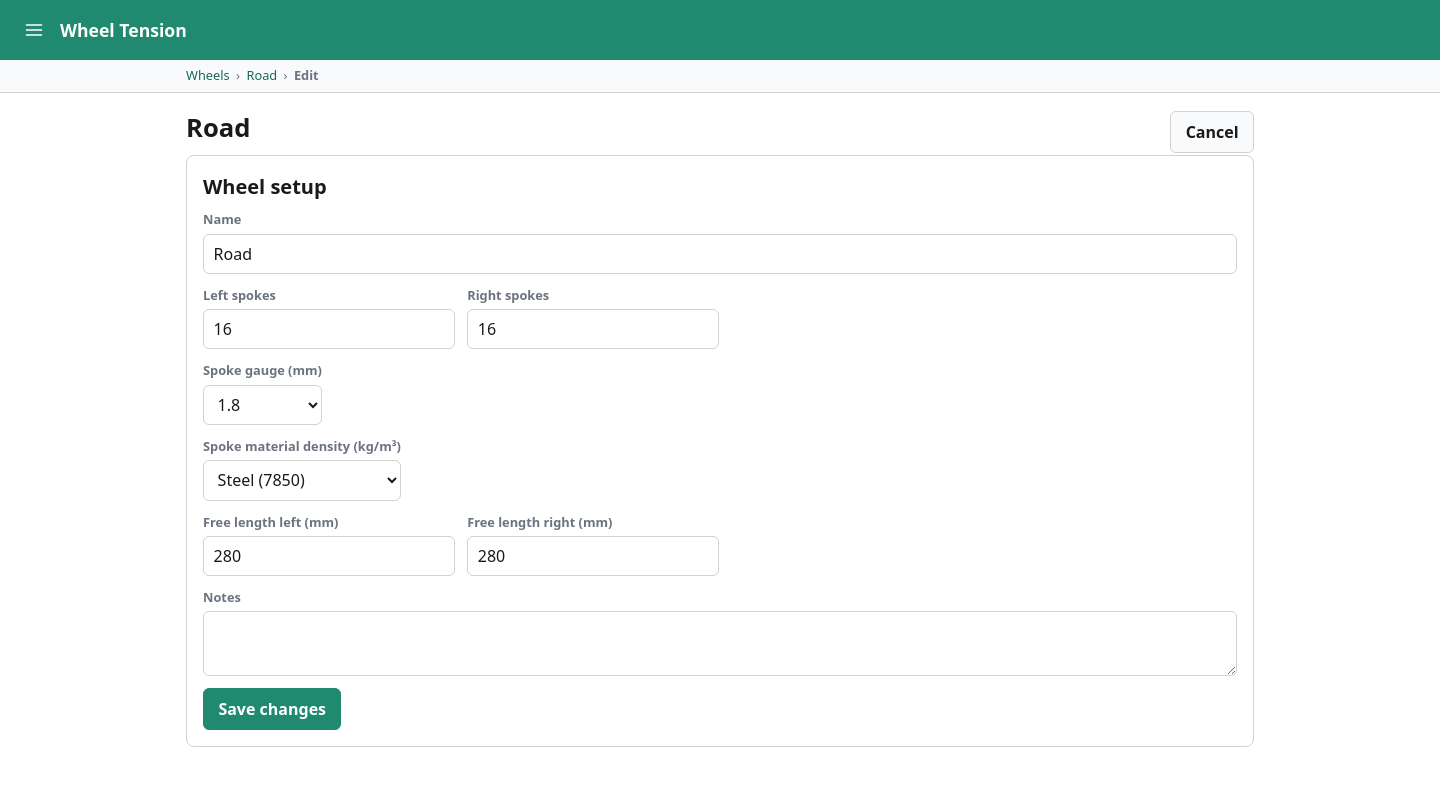
Test: WheelEditPage › keeps editing when the discard prompt is cancelled
Replace the text in the field labelled "Name" with "Gravel" at (720, 254), box [203, 234, 1237, 274]
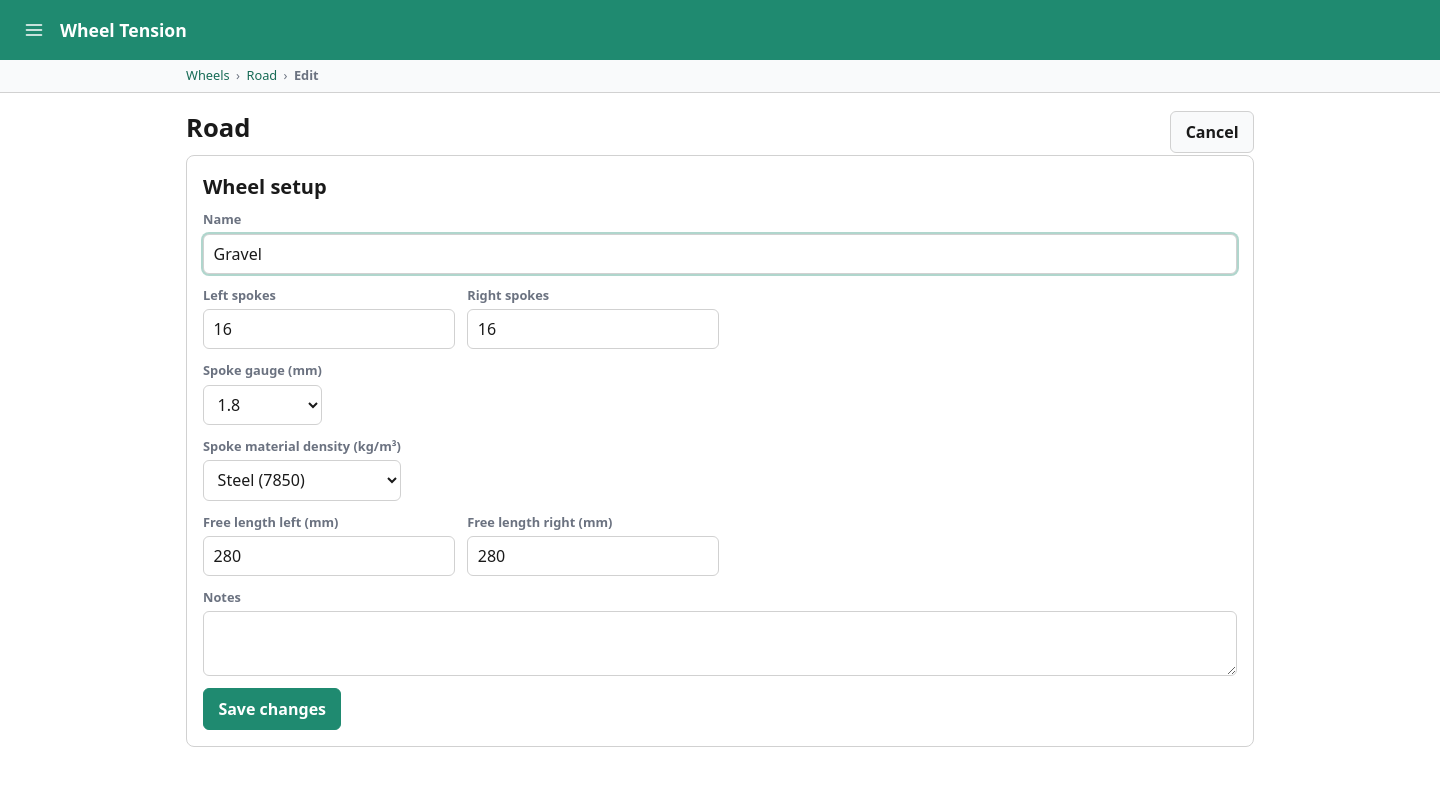
Click the link "Road" at (262, 76), box [246, 66, 277, 86]
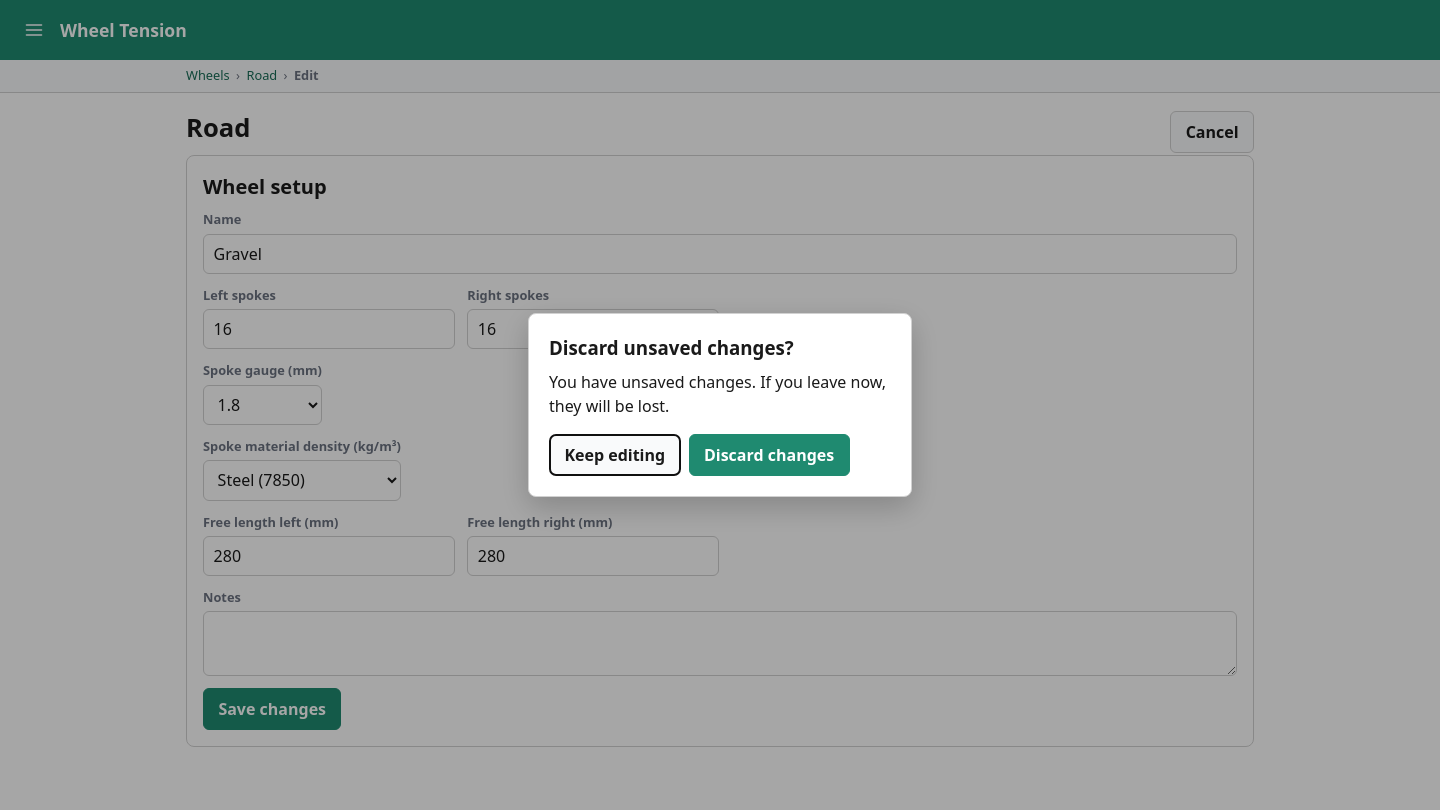
Click the button "Keep editing" at (615, 455), box [549, 434, 680, 476]
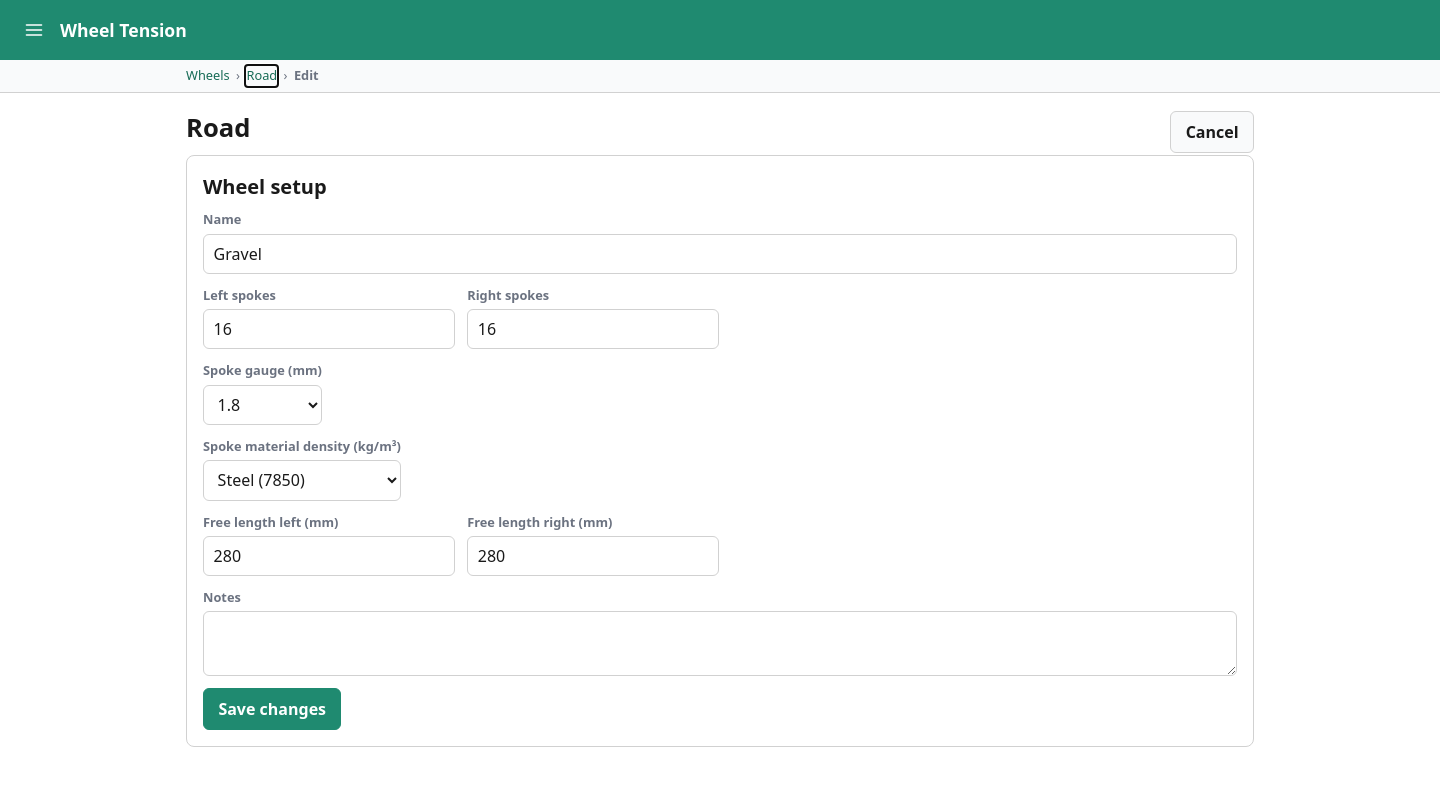
Expected: the heading "Discard unsaved changes?" is gone
